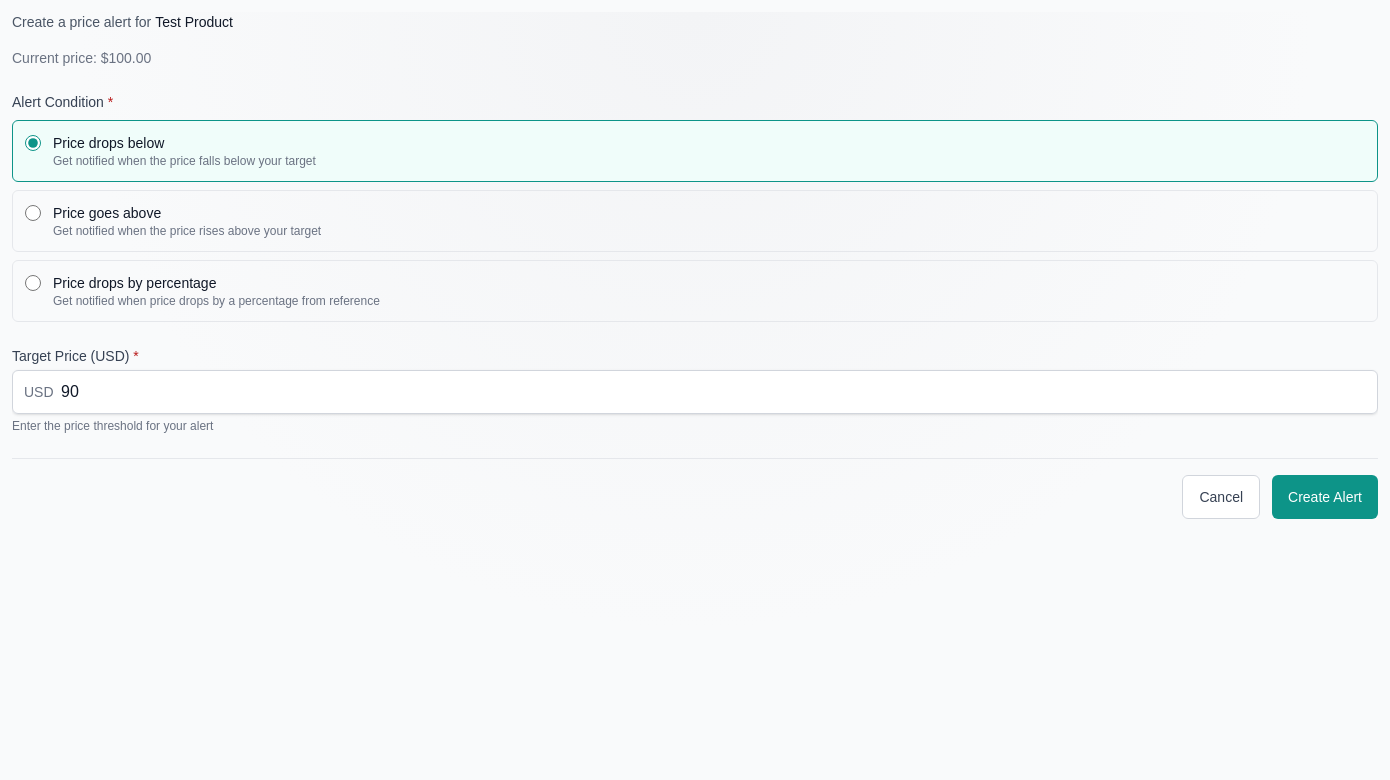
it: AlertForm › validation › should not submit when target price is negative
Replace the text in the number field labelled "Target Price (USD) *" with "-10" at (695, 392), box [12,370,1378,414]
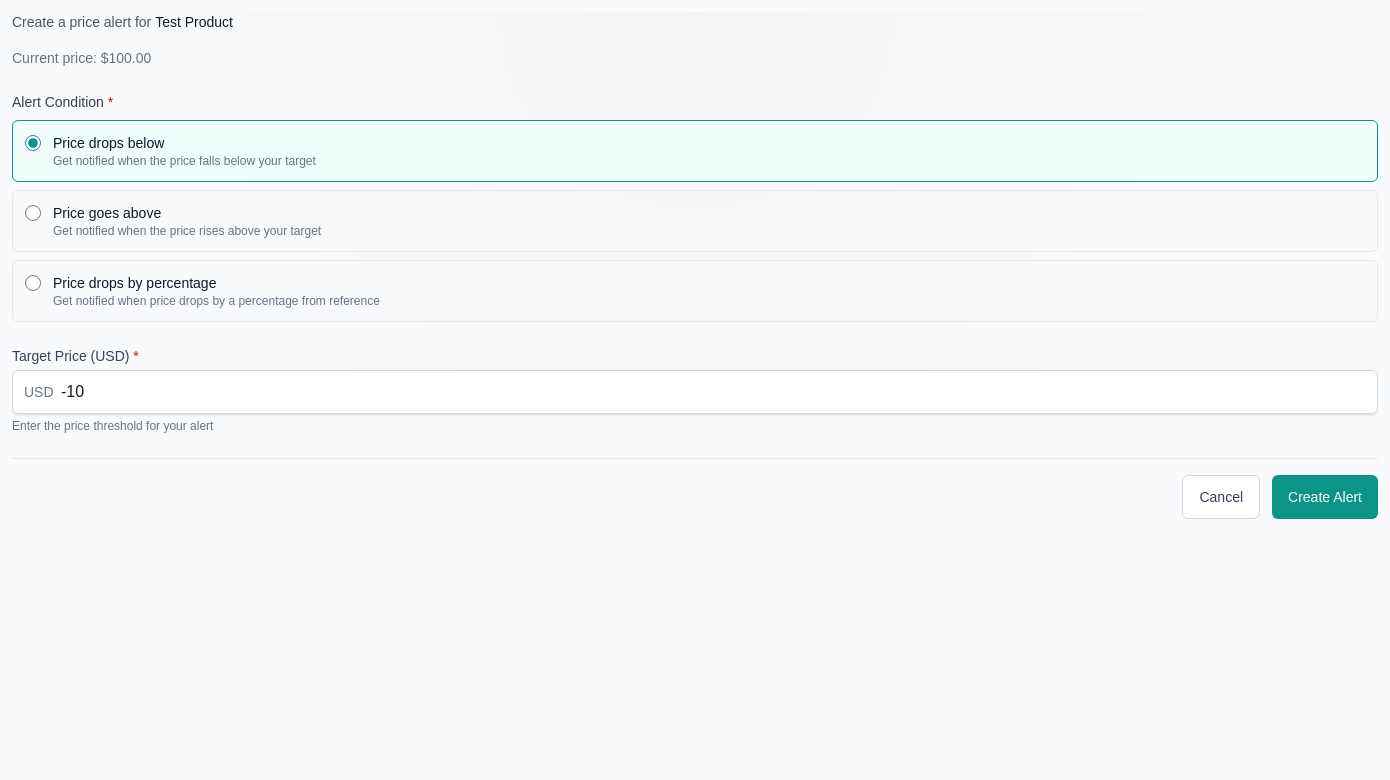
Submit the form named "Create Alert"
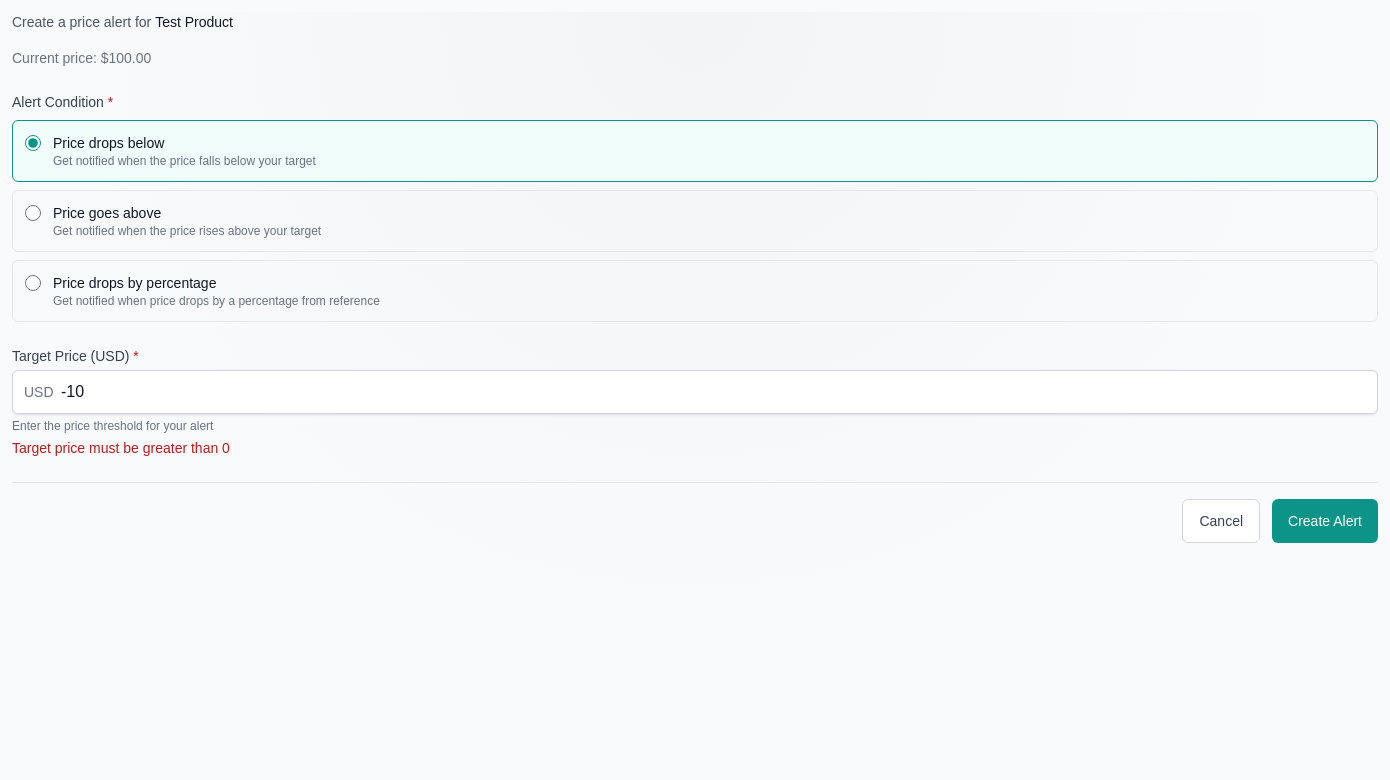
expect the text "Target price must be greater than 0" is shown: met, box [12,440,230,456]
